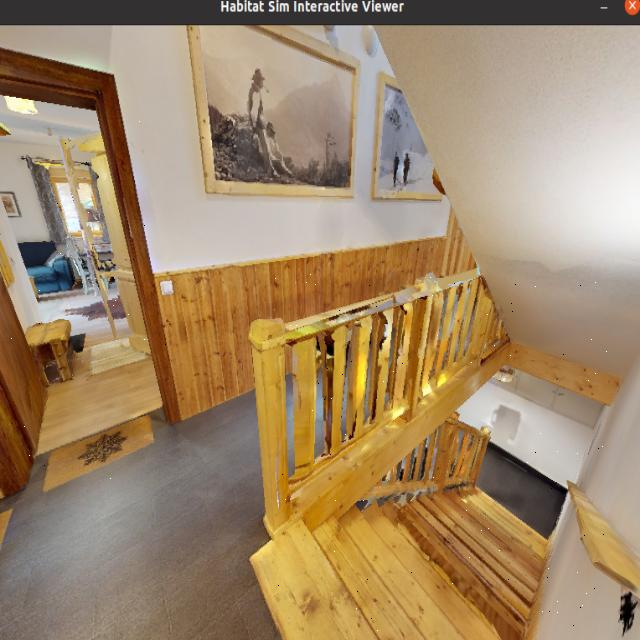door-frame: (0, 74, 178, 479)
stairs: (256, 273, 608, 640)
